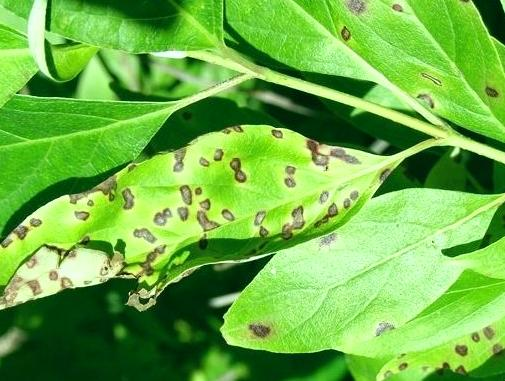Tomato leaf bacterial spot: (0, 115, 408, 329), (205, 188, 492, 367)
